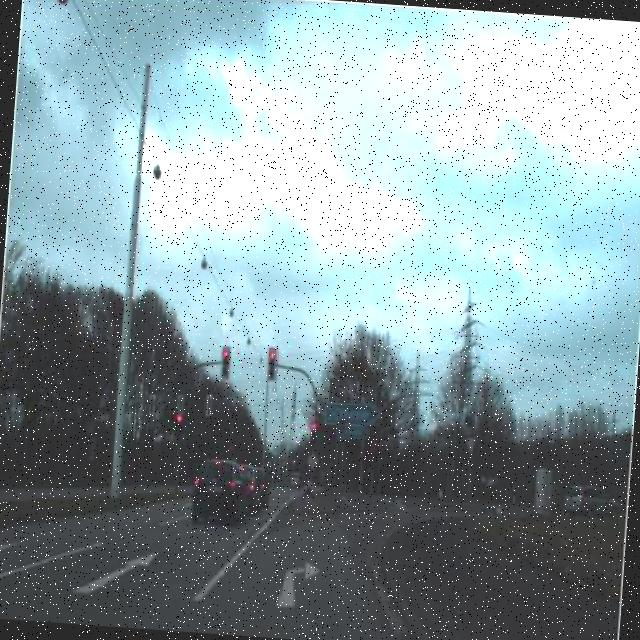Ustap pierwszenstwa: (459, 432, 479, 460)
